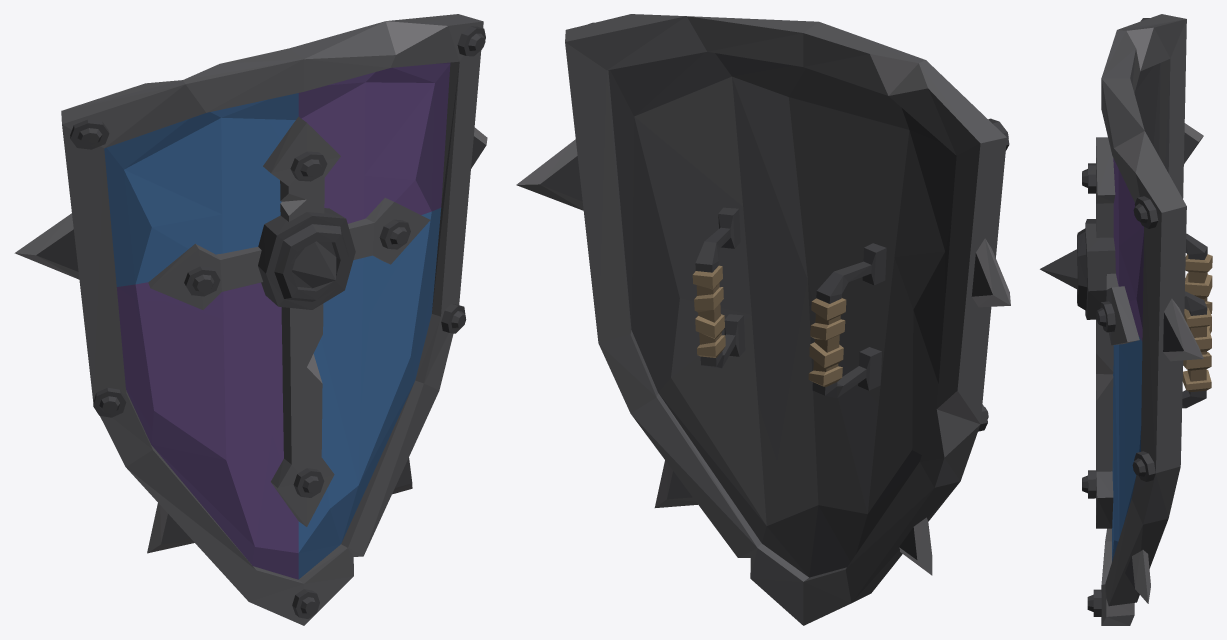
The model's file is SM_Wep_Shield_03.gltf.
3 views of the same model, side by side, from view 1: azimuth 30°, elevation 25°; view 2: azimuth 150°, elevation 25°; view 3: azimuth 270°, elevation 25° (orthographic). The views are drawn at different scales.
Parts seen in each view (by area): view 1: SM_Wep_Shield_03; view 2: SM_Wep_Shield_03; view 3: SM_Wep_Shield_03.
Boxes of the visible parts, x1,y1,x2,y2 form: SM_Wep_Shield_03: (14,14,487,625); SM_Wep_Shield_03: (516,14,1010,625); SM_Wep_Shield_03: (1040,14,1212,625).
Size of the model in its own units: 0.596 by 0.6822 by 0.1954.
Materials: 1 (1 with a texture image).
